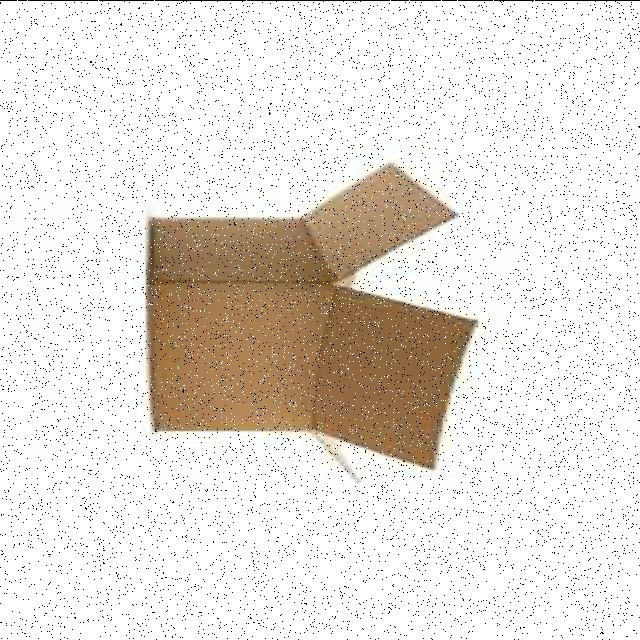defect: (140, 155, 477, 484)
